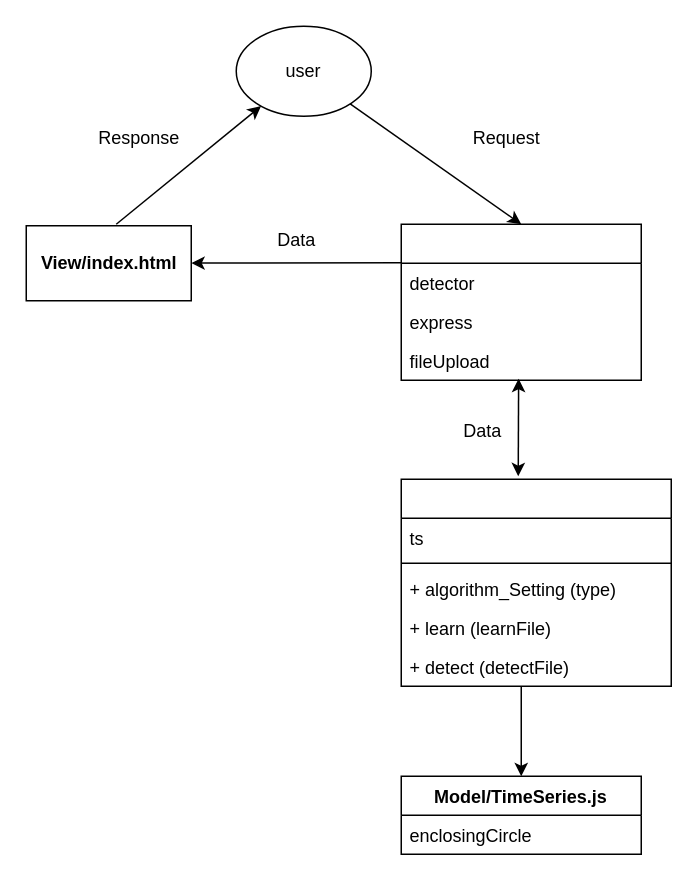
The diagram is 698 pixels wide and 885 high, and some of its shapes have lost their labels. Each missing label, with the box of its shape:
Controller/Server.js: (400, 223, 641, 380)
Model/Detector.js: (400, 478, 671, 686)
